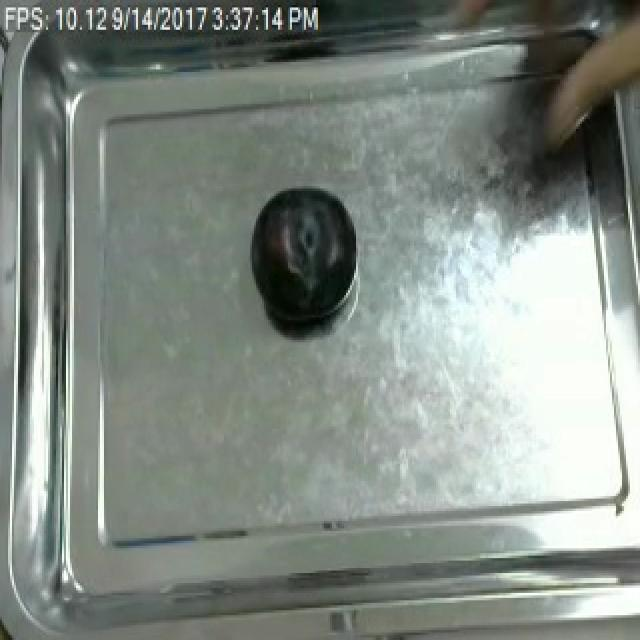Fruit: (246, 181, 360, 332)
